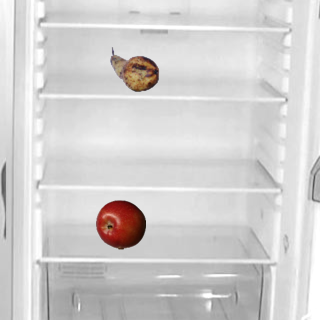Apple Braeburn: (95, 199, 145, 249)
Pear Abate: (109, 44, 159, 94)
